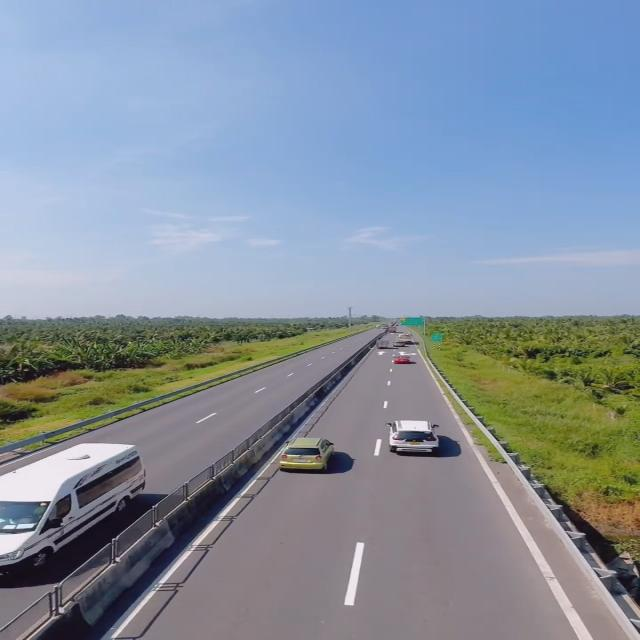car: (3, 434, 150, 566), (277, 434, 334, 473), (387, 418, 442, 457)
